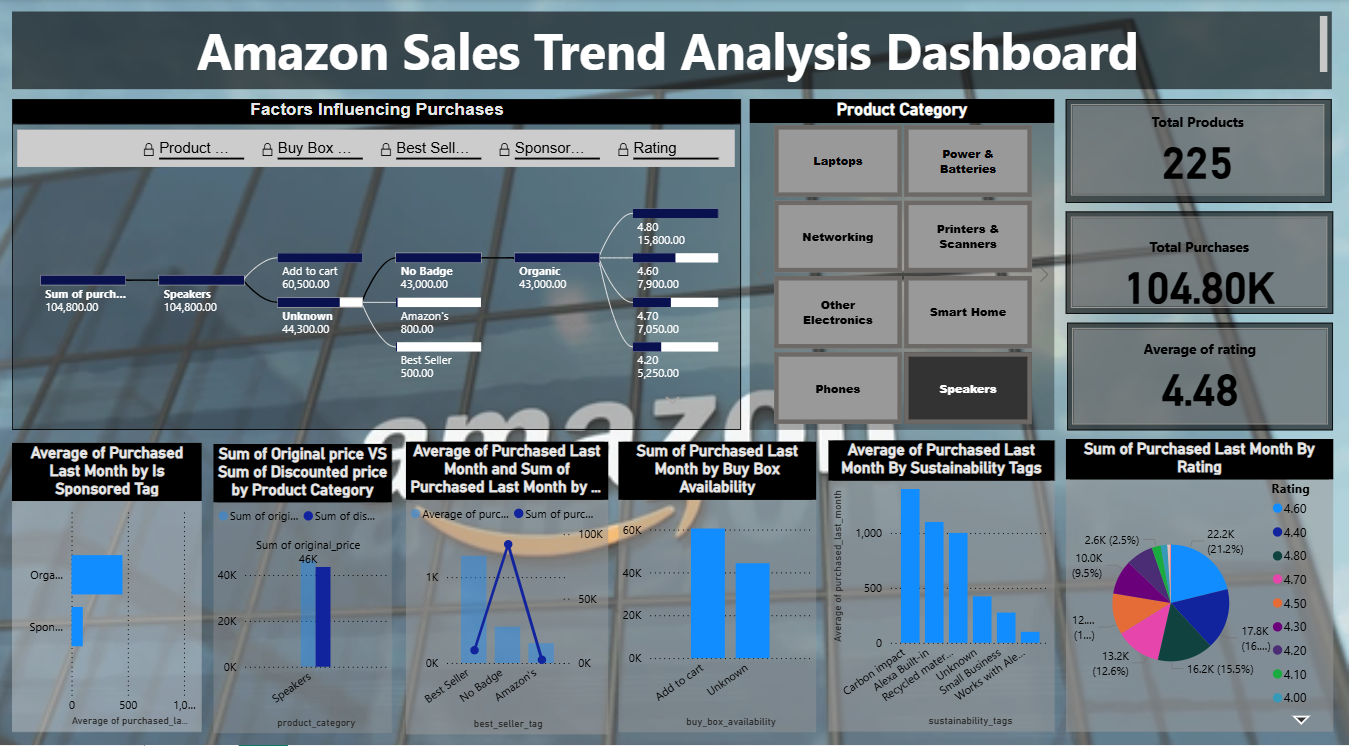

What the dashboard file says about the page in this screenshot:
{"tool":"powerbi","page":{"name":"Page 1","canvas":[1448,799],"ordinal":0},"visuals":[{"type":"pieChart","title":"Sum of Purchased Last Month By Rating","fields":{"Y":["Sum(Amazon_jupyter.purchased_last_month)"],"Category":["Amazon_jupyter.rating"]},"box":[1144.7,471.3,286.5,313.3],"z":0},{"type":"clusteredColumnChart","title":"Sum of Original price VS Sum of Discounted price by Product Category","fields":{"Category":["Amazon_jupyter.product_category"],"Y":["Sum(Amazon_jupyter.original_price)","Sum(Amazon_jupyter.discounted_price)"]},"box":[228.9,475.3,198.1,309.3],"z":1000},{"type":"lineClusteredColumnComboChart","title":"Average of Purchased Last Month and Sum of Purchased Last Month by Best Seller Tag","fields":{"Category":["Amazon_jupyter.is_best_seller"],"Y":["Avg(Amazon_jupyter.purchased_last_month)"],"Y2":["Sum(Amazon_jupyter.purchased_last_month)"]},"box":[438.2,478.6,216.8,308.1],"z":2000},{"type":"clusteredColumnChart","title":"Sum of Purchased Last Month by Buy Box Availability","fields":{"Y":["Sum(Amazon_jupyter.purchased_last_month)"],"Category":["Amazon_jupyter.buy_box_availability"]},"box":[665.5,474.1,212.4,311.1],"z":3000},{"type":"clusteredColumnChart","title":"Average of Purchased Last Month By Sustainability Tags","fields":{"Category":["Amazon_jupyter.sustainability_tags"],"Y":["Avg(Amazon_jupyter.purchased_last_month)"]},"box":[890.3,472.6,242.3,311.9],"z":4000},{"type":"barChart","title":"Average of Purchased Last Month by Is Sponsored Tag","fields":{"Category":["Amazon_jupyter.is_sponsored"],"Y":["Avg(Amazon_jupyter.purchased_last_month)"]},"box":[16.1,475.3,203.5,309.3],"z":5000},{"type":"cardVisual","title":"Average Reviews Per Product","fields":{"Data":["Amazon_jupyter.Avg Reviews per Product"]},"box":[1182.2,352.1,249,109.8],"z":6000},{"type":"decompositionTreeVisual","title":"Factors Influencing Purchases","fields":{"Analyze":["Sum(Amazon_jupyter.purchased_last_month)"],"ExplainBy":["Amazon_jupyter.product_category","Amazon_jupyter.buy_box_availability","Amazon_jupyter.best_seller_tag","Amazon_jupyter.is_sponsored_tag","Amazon_jupyter.rating"]},"box":[16.1,107.1,780.5,354.8],"z":7000},{"type":"slicer","title":"Product Category","fields":{"Values":["Amazon_jupyter.product_category"]},"box":[806,107.1,358.8,354.8],"z":8000},{"type":"textbox","box":[16.1,13.4,1413.8,83],"z":9000},{"type":"cardVisual","title":"Average Reviews Per Product","fields":{"Data":["Avg(Amazon_jupyter.rating)"]},"box":[1182.2,227.6,247.7,115.1],"z":10000},{"type":"cardVisual","title":"Average Reviews Per Product","fields":{"Data":["Amazon_jupyter.Total Products"]},"box":[1182.2,107.1,247.7,111.1],"z":11000}]}

Visuals, with their boxes in screenshot pixels (x1, y1, x2, y2), scaled from the page's 1448x799 canvas onto the 1349x746 screenshot:
"Sum of Purchased Last Month By Rating" pieChart: x1=1066, y1=440, x2=1333, y2=733
"Sum of Original price VS Sum of Discounted price by Product Category" clusteredColumnChart: x1=213, y1=444, x2=398, y2=733
"Average of Purchased Last Month and Sum of Purchased Last Month by Best Seller Tag" lineClusteredColumnComboChart: x1=408, y1=447, x2=610, y2=735
"Sum of Purchased Last Month by Buy Box Availability" clusteredColumnChart: x1=620, y1=443, x2=818, y2=733
"Average of Purchased Last Month By Sustainability Tags" clusteredColumnChart: x1=829, y1=441, x2=1055, y2=732
"Average of Purchased Last Month by Is Sponsored Tag" barChart: x1=15, y1=444, x2=205, y2=733
"Average Reviews Per Product" cardVisual: x1=1101, y1=329, x2=1333, y2=431
"Factors Influencing Purchases" decompositionTreeVisual: x1=15, y1=100, x2=742, y2=431
"Product Category" slicer: x1=751, y1=100, x2=1085, y2=431
textbox: x1=15, y1=13, x2=1332, y2=90
"Average Reviews Per Product" cardVisual: x1=1101, y1=213, x2=1332, y2=320
"Average Reviews Per Product" cardVisual: x1=1101, y1=100, x2=1332, y2=204
